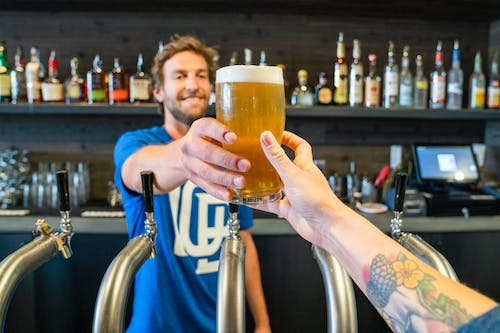alcohol: (214, 64, 287, 206), (41, 46, 65, 103), (129, 49, 154, 103), (446, 38, 465, 109), (428, 39, 447, 108), (382, 38, 400, 108), (333, 30, 349, 107), (86, 51, 109, 103), (349, 38, 366, 107), (27, 45, 47, 103), (468, 50, 487, 109), (108, 55, 131, 103), (10, 43, 28, 103), (64, 55, 86, 103), (290, 67, 316, 106), (365, 52, 382, 108), (400, 43, 414, 108), (414, 52, 428, 108), (487, 50, 500, 109), (0, 38, 10, 103), (316, 72, 333, 106)
